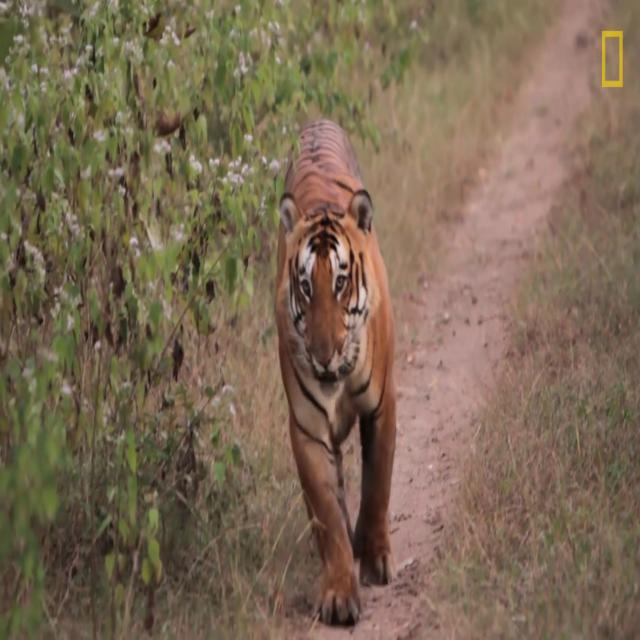TIGER: (268, 113, 409, 629)
